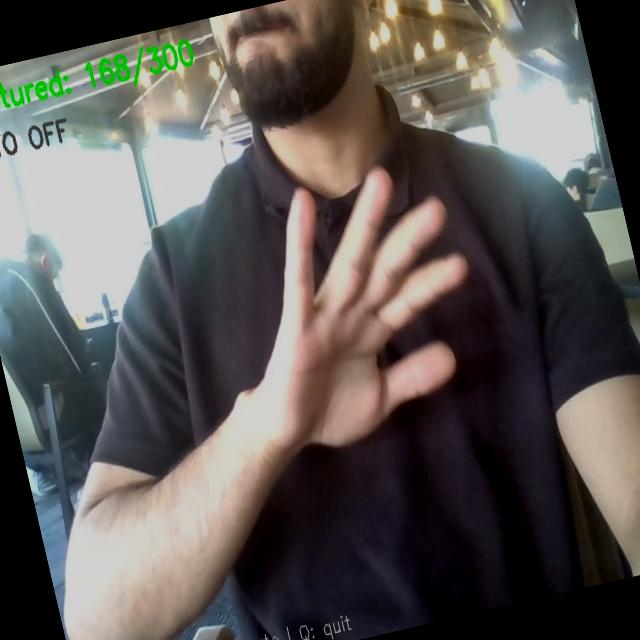Hand: (257, 168, 466, 447)
